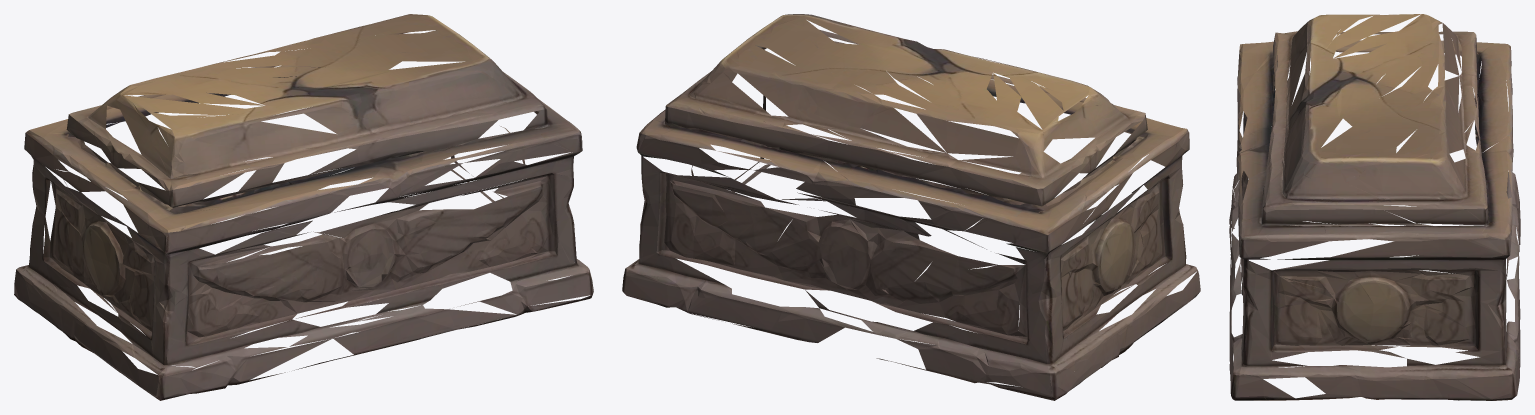
Rendered from sarcophagus.glb.
3 renders of one model, left to right at view 1: azimuth 30°, elevation 25°; view 2: azimuth 150°, elevation 25°; view 3: azimuth 270°, elevation 25°, orthographic. The views are drawn at different scales.
Visible parts, largest first — view 1: geometry_0; view 2: geometry_0; view 3: geometry_0.
Boxes of the visible parts, x1,y1,x2,y2 form: geometry_0: (14, 14, 593, 400); geometry_0: (622, 14, 1200, 400); geometry_0: (1229, 14, 1520, 400).
Size of the model in its own units: 1.9 by 0.925 by 1.13.
1 material, 1 textured.
